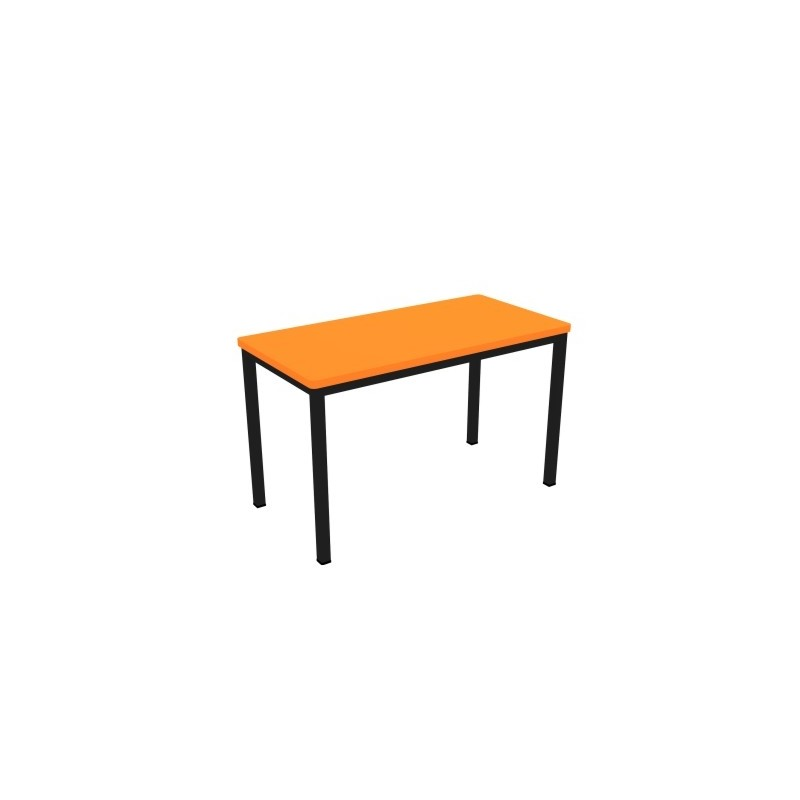m01: (237, 294, 571, 566)
